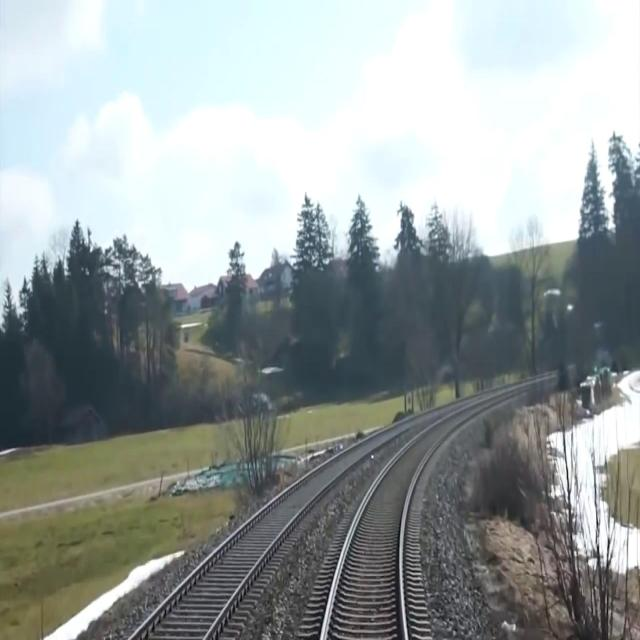rail-track: (134, 425, 402, 639), (324, 406, 480, 639)
